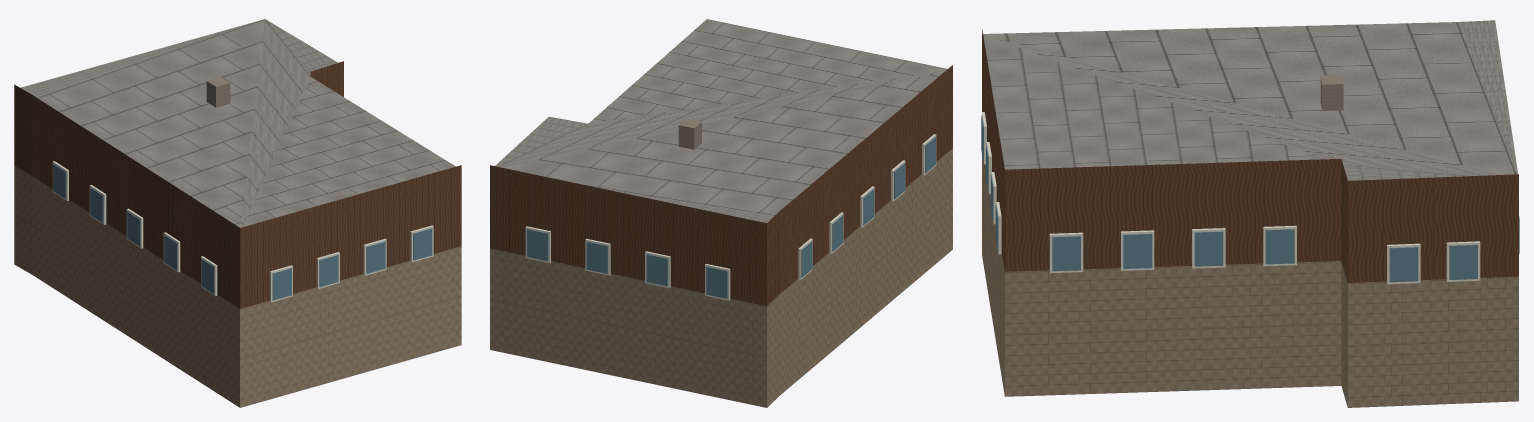
File: core_0065.gltf
3 renders of one model, left to right at view 1: azimuth 30°, elevation 25°; view 2: azimuth 150°, elevation 25°; view 3: azimuth 270°, elevation 25°, orthographic. The views are drawn at different scales.
Visible parts, largest first — view 1: core_0065; view 2: core_0065; view 3: core_0065.
Boxes of the visible parts, box(x1,y1,x2,y2) form: core_0065: box(14, 19, 461, 407); core_0065: box(490, 19, 952, 407); core_0065: box(981, 20, 1519, 407).
Bounding box in the file's own units: 13.68 × 9.45 × 18.65.
6 materials, 6 textured.
